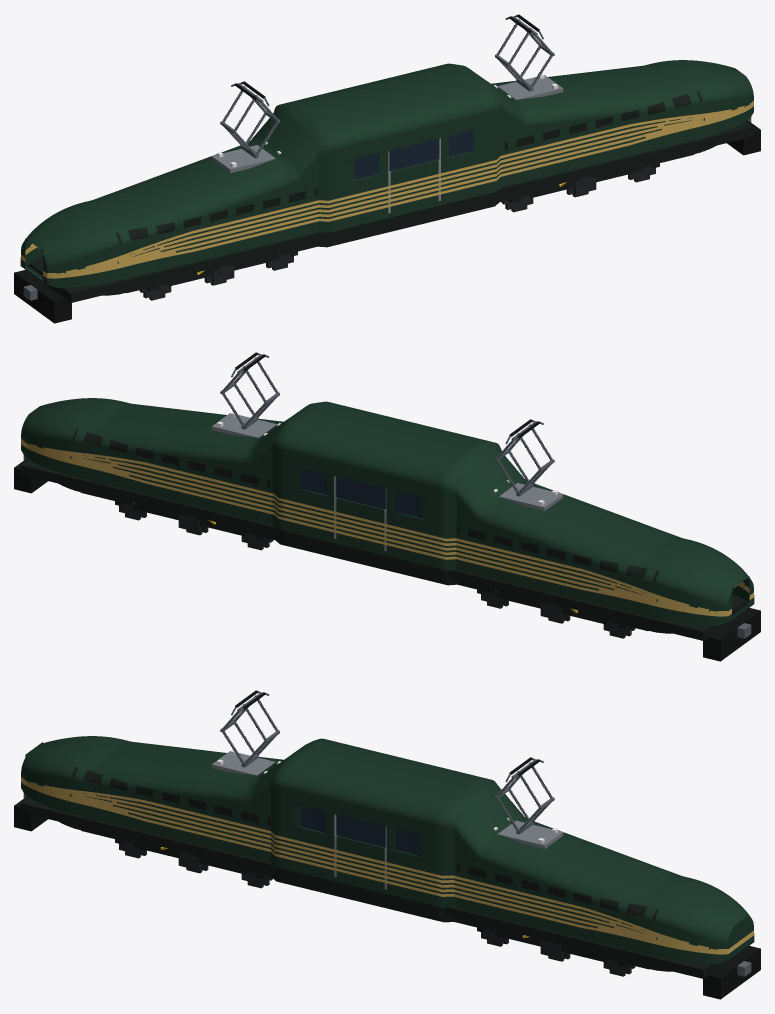
The model's file is gg1_front.obj.
3 renders of one model, top to bottom at view 1: azimuth 30°, elevation 25°; view 2: azimuth 150°, elevation 25°; view 3: azimuth 330°, elevation 25°, orthographic.
Parts seen in each view (by area): view 1: SHELL, FRAME, SHELL_pantograph, SHELL_pilot, BOGEY_FRONT, BOGEY_REAR; view 2: SHELL, FRAME, SHELL_pantograph, SHELL_pilot, BOGEY_FRONT, BOGEY_REAR; view 3: SHELL, FRAME, SHELL_pantograph, SHELL_pilot, BOGEY_FRONT, BOGEY_REAR.
Part boxes in pixels (x1,y1,x2,y2): SHELL: (21, 60, 753, 295); FRAME: (20, 121, 754, 302); SHELL_pantograph: (211, 14, 563, 172); SHELL_pilot: (14, 117, 760, 323); BOGEY_FRONT: (508, 163, 659, 202); BOGEY_REAR: (146, 251, 297, 291); SHELL: (21, 398, 753, 633); FRAME: (20, 459, 754, 640); SHELL_pantograph: (211, 352, 563, 510); SHELL_pilot: (14, 455, 760, 661); BOGEY_FRONT: (115, 501, 266, 540); BOGEY_REAR: (477, 589, 628, 629); SHELL: (21, 736, 753, 971); FRAME: (20, 797, 754, 978); SHELL_pantograph: (211, 690, 563, 848); SHELL_pilot: (14, 793, 760, 999); BOGEY_FRONT: (477, 927, 628, 967); BOGEY_REAR: (115, 839, 266, 878).
Size of the model in its own units: 24.7 by 5.68 by 3.2.
Materials: 1 (1 with a texture image).
